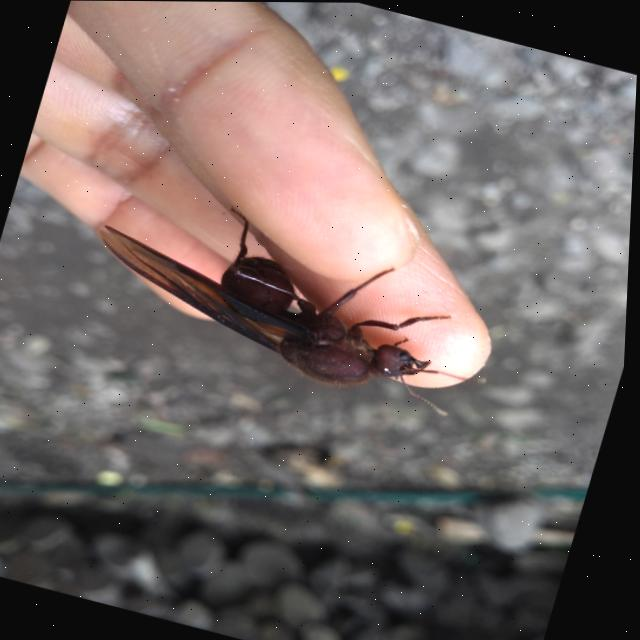Alive-Female-Alate: (72, 175, 522, 424)
